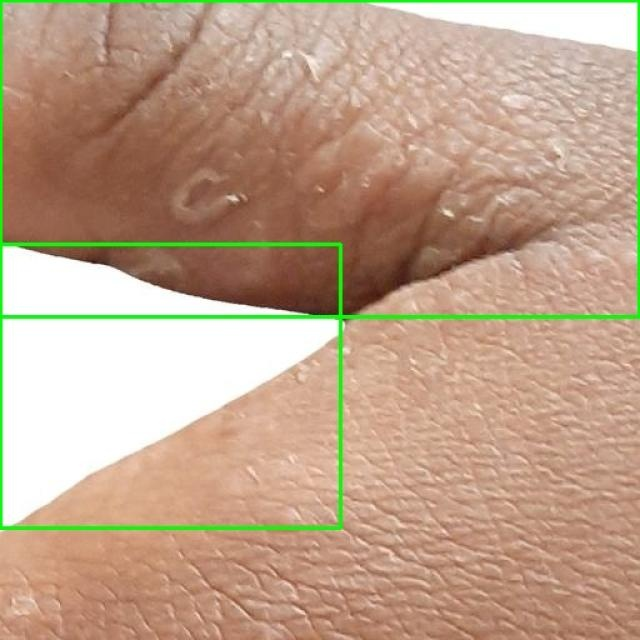Scabies: (0, 0, 639, 316), (0, 244, 341, 528)
